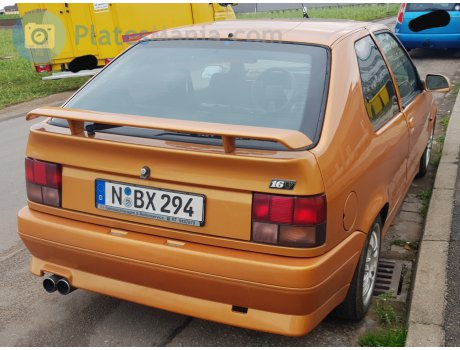License Plates: (105, 185, 195, 208)
